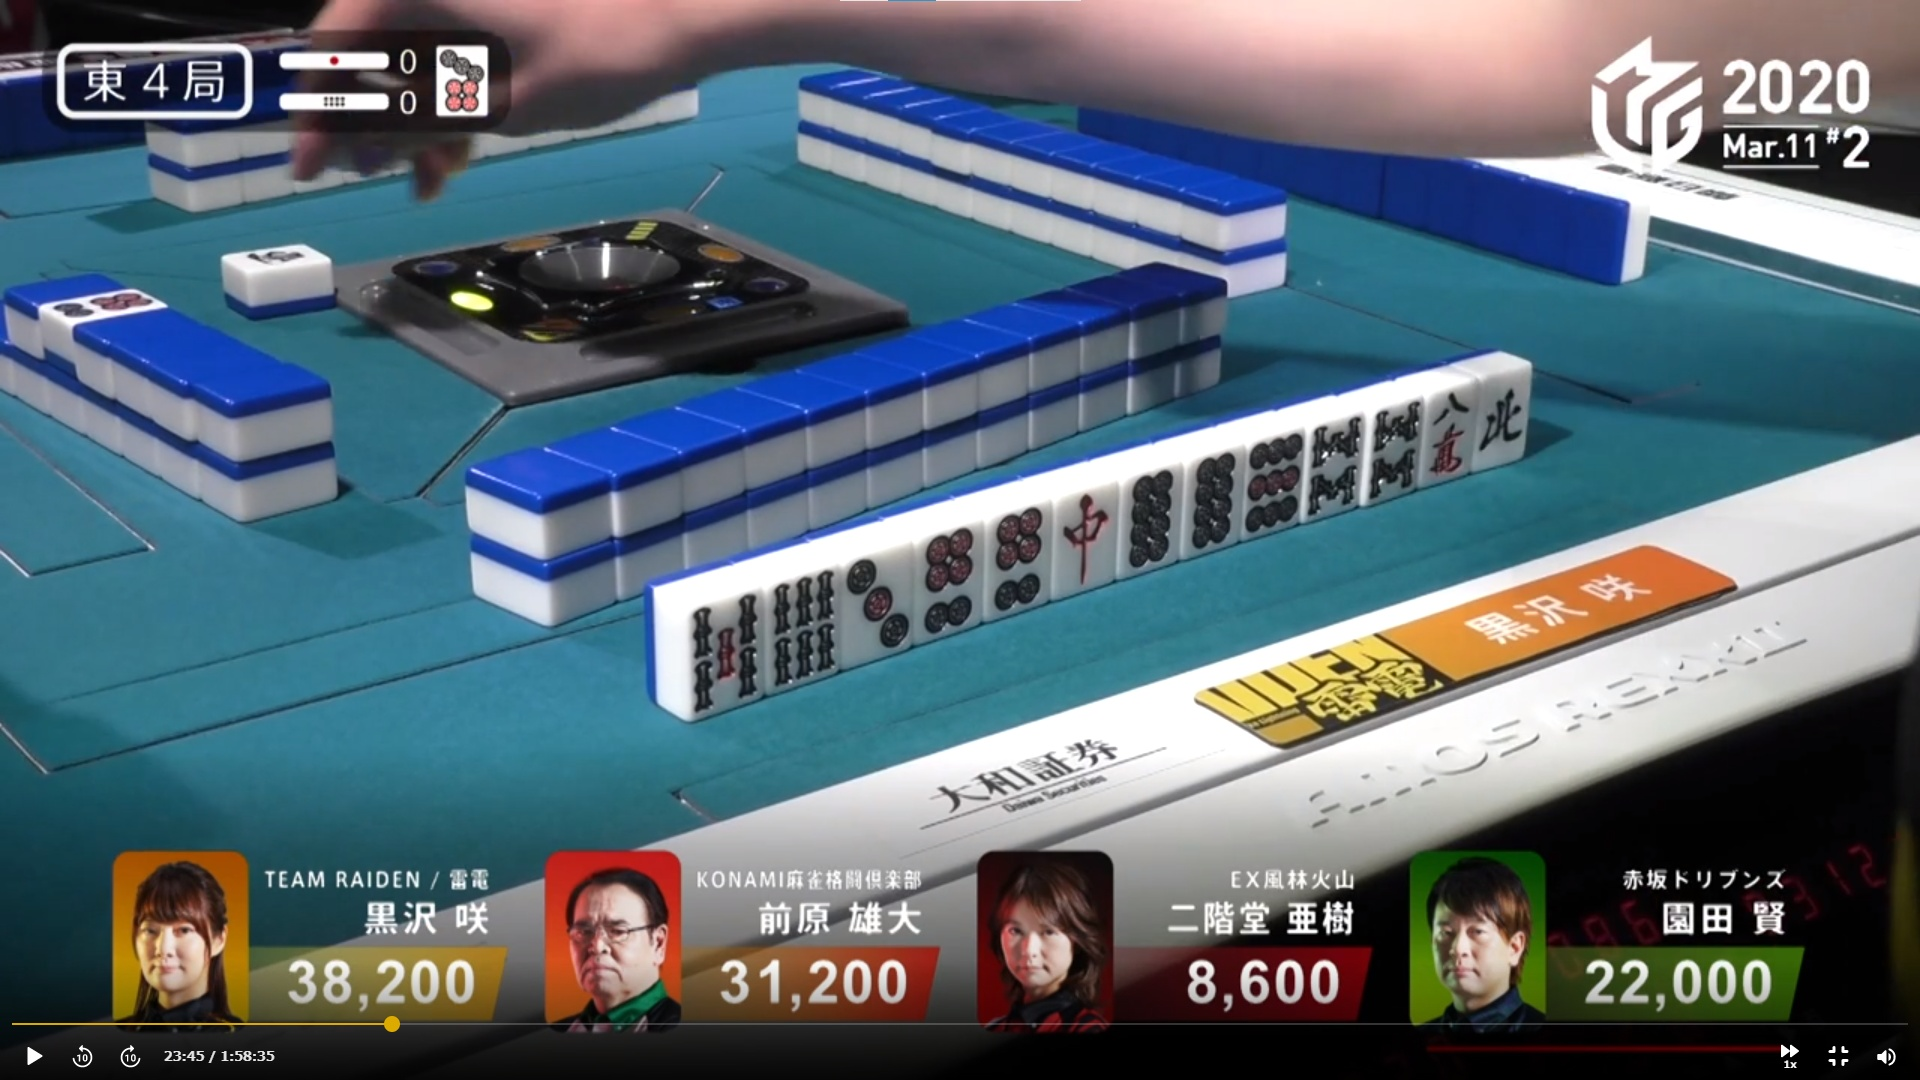3p: (839, 541, 910, 653)
5s: (683, 576, 760, 712)
6p: (915, 521, 978, 634), (982, 504, 1042, 616)
6s: (766, 564, 837, 682)
8m: (1418, 382, 1466, 492)
8p: (1120, 462, 1179, 578), (1185, 444, 1238, 558)
8s: (1362, 394, 1416, 505), (1307, 411, 1357, 517)
9p: (1247, 425, 1302, 537)
chun: (1054, 483, 1116, 599)
hand_ton_4: (51, 38, 261, 121)
pei: (1472, 367, 1528, 471)
round_0: (270, 86, 423, 113)
team_raiden: (1193, 628, 1461, 750)
